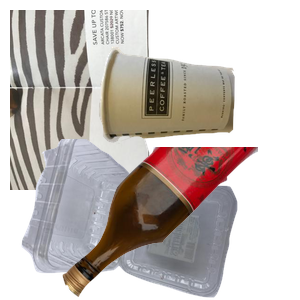glass: (60, 147, 300, 300)
paper: (10, 10, 250, 190)
plastic: (19, 139, 249, 300)
trash: (95, 44, 300, 180)
